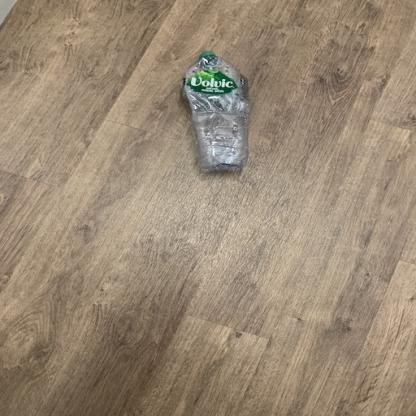trash: (180, 50, 252, 174)
